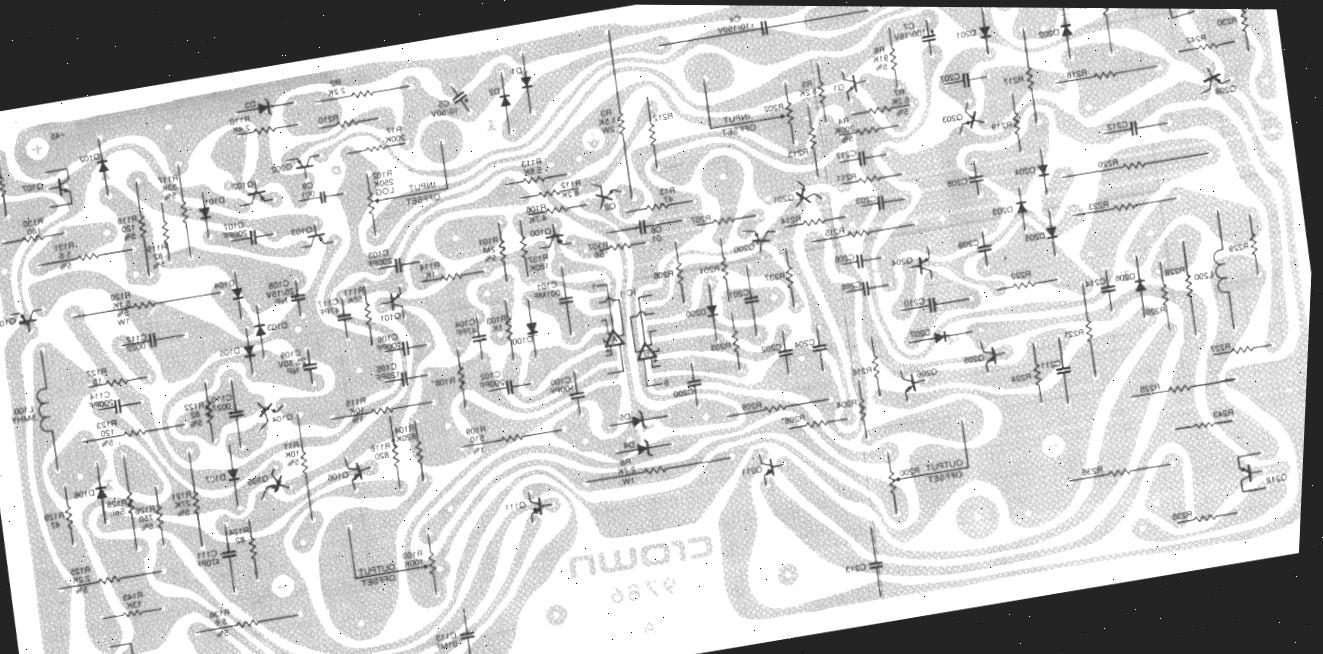compo_name: (1073, 451, 1134, 488), (910, 445, 970, 480), (705, 5, 762, 40), (102, 285, 142, 334), (351, 553, 400, 592), (1028, 12, 1079, 46), (203, 597, 245, 638), (270, 430, 311, 472), (335, 388, 378, 428), (258, 269, 299, 310), (327, 77, 379, 109), (137, 237, 177, 278), (948, 15, 995, 49), (978, 193, 1025, 227), (1051, 318, 1100, 350), (271, 341, 311, 380), (86, 412, 125, 451), (364, 159, 402, 199), (110, 204, 146, 246), (174, 392, 209, 435), (471, 359, 511, 396), (1181, 258, 1222, 294), (111, 581, 153, 616), (1205, 71, 1247, 106), (692, 251, 736, 284), (260, 403, 306, 434), (64, 556, 97, 599), (0, 302, 39, 338), (608, 452, 643, 492), (1006, 154, 1048, 187), (79, 383, 122, 414), (308, 289, 345, 325), (549, 170, 588, 204), (888, 13, 928, 46), (1175, 22, 1216, 54), (423, 91, 464, 123), (387, 415, 423, 451), (129, 502, 163, 540), (365, 356, 403, 390), (1014, 222, 1057, 252), (885, 246, 929, 275), (932, 101, 973, 132), (191, 391, 222, 432), (1133, 296, 1172, 328), (496, 490, 537, 520), (1072, 265, 1113, 295), (515, 146, 551, 180), (827, 114, 861, 150), (37, 504, 71, 540), (588, 100, 621, 137), (212, 384, 241, 426), (723, 111, 761, 143), (519, 195, 558, 226), (646, 99, 685, 130), (1217, 232, 1260, 260), (1202, 332, 1242, 362), (236, 467, 276, 497), (116, 327, 156, 357), (396, 540, 432, 573), (815, 218, 857, 246), (168, 484, 198, 523), (908, 250, 943, 283), (1000, 264, 1041, 292), (189, 541, 226, 572), (864, 39, 895, 76), (367, 327, 404, 358), (713, 104, 747, 137), (215, 264, 249, 297), (13, 205, 53, 233), (1108, 259, 1144, 290), (194, 188, 231, 218), (642, 259, 681, 287), (261, 155, 303, 181), (198, 461, 237, 489), (789, 71, 824, 102), (447, 309, 483, 339), (919, 463, 968, 485), (723, 234, 764, 260), (222, 111, 260, 139), (291, 171, 323, 204), (154, 170, 188, 201), (927, 323, 961, 354), (459, 417, 494, 447), (208, 338, 248, 364), (981, 112, 1021, 138), (223, 169, 260, 197), (950, 230, 987, 258), (829, 142, 867, 169), (841, 356, 879, 383), (481, 308, 515, 338), (429, 624, 463, 654), (775, 406, 811, 434), (1156, 504, 1198, 528), (1202, 398, 1242, 423), (884, 458, 921, 485), (338, 278, 369, 310), (583, 233, 617, 262), (526, 279, 567, 303), (521, 251, 556, 279), (48, 232, 83, 260), (217, 217, 256, 242), (756, 93, 795, 118), (67, 145, 104, 171), (768, 183, 805, 209), (519, 218, 559, 242), (382, 117, 412, 149), (318, 463, 356, 488), (412, 256, 447, 283), (774, 208, 810, 234), (398, 190, 447, 209), (78, 358, 115, 383), (470, 225, 504, 252), (679, 298, 717, 322), (685, 204, 723, 228), (1056, 62, 1094, 86), (800, 121, 826, 156), (828, 390, 863, 416), (611, 106, 636, 142), (1088, 276, 1124, 301), (365, 434, 397, 462), (233, 92, 266, 119), (373, 305, 410, 329), (786, 327, 823, 351), (361, 241, 395, 267), (425, 369, 460, 394), (781, 142, 812, 170), (820, 74, 856, 98), (936, 172, 972, 196), (752, 334, 785, 360), (240, 530, 266, 563), (404, 172, 441, 195), (308, 110, 345, 133), (1097, 114, 1134, 137), (255, 312, 289, 337), (66, 480, 101, 504), (69, 245, 104, 269), (1258, 466, 1293, 490), (848, 186, 884, 209), (1132, 376, 1168, 399), (880, 85, 914, 109), (597, 189, 624, 219), (705, 334, 735, 361), (998, 65, 1028, 92), (1023, 359, 1049, 390), (954, 346, 989, 369), (829, 245, 867, 266), (474, 242, 507, 266), (733, 395, 767, 418), (680, 366, 706, 396), (1080, 194, 1117, 215), (7, 406, 42, 428), (284, 217, 319, 239), (932, 64, 965, 87), (594, 339, 622, 366), (556, 374, 583, 402), (653, 178, 681, 205), (101, 492, 130, 518), (563, 382, 592, 408), (615, 432, 649, 454), (758, 264, 789, 288), (736, 457, 765, 482), (641, 219, 668, 245), (505, 328, 534, 352), (223, 527, 256, 548), (866, 275, 897, 297), (724, 281, 752, 305), (901, 289, 930, 312), (614, 281, 643, 304), (16, 177, 48, 197), (1211, 9, 1241, 30), (666, 383, 697, 403), (1157, 259, 1188, 279), (1092, 151, 1123, 171), (841, 558, 869, 579), (505, 59, 531, 80), (832, 168, 860, 187), (465, 443, 491, 463), (612, 405, 636, 423), (484, 83, 505, 102), (1133, 8, 1166, 14), (1072, 8, 1105, 14), (0, 178, 5, 204)
